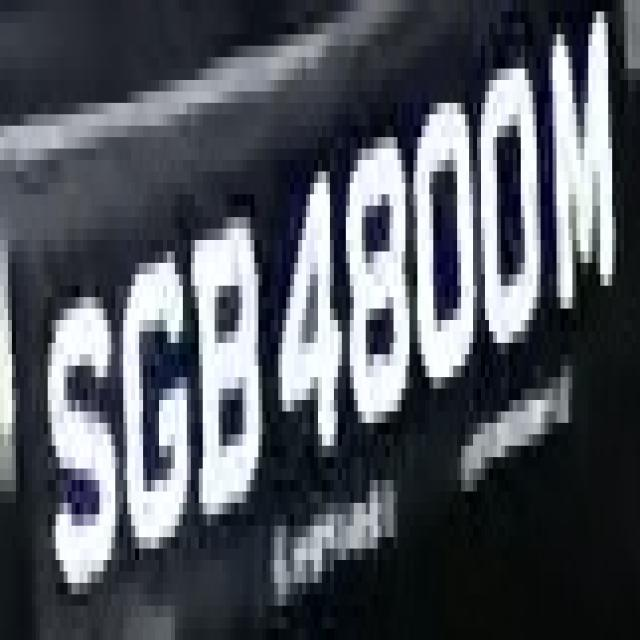0: (457, 34, 549, 389), (409, 69, 481, 412)
4: (258, 114, 346, 469)
8: (338, 114, 409, 446)
B: (175, 206, 274, 571)
G: (111, 194, 195, 583)
M: (545, 23, 624, 343)
S: (36, 251, 115, 583)
